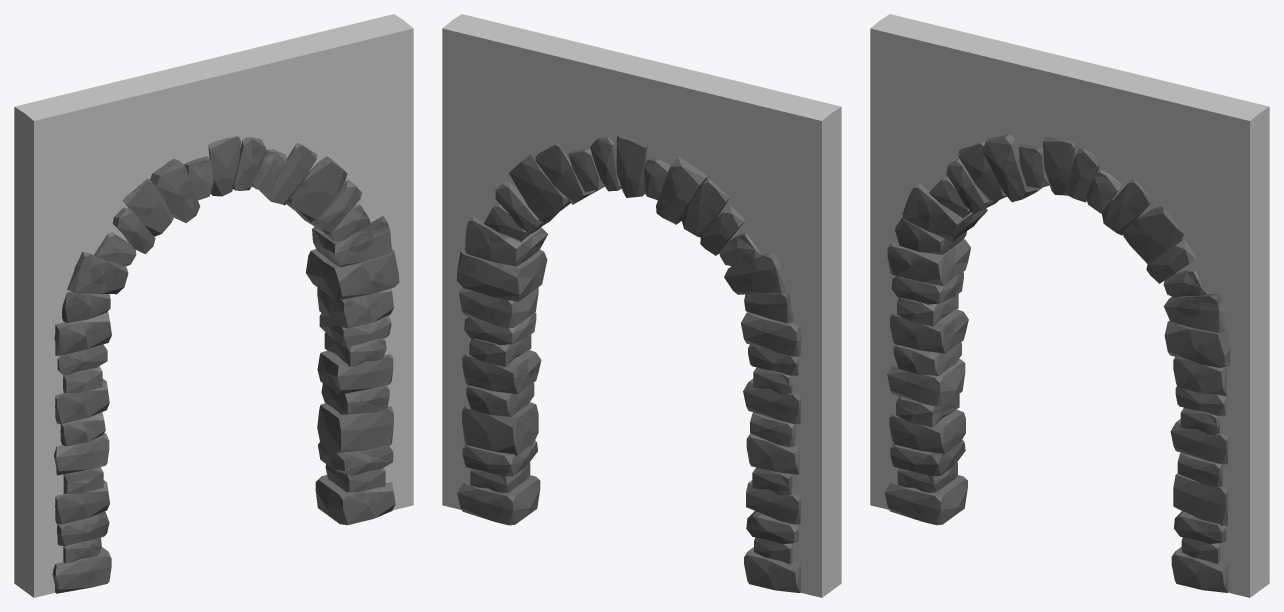
The model's file is SM_Bld_Wall_L_Arch_01.fbx.
The picture shows the model from 3 angles, left to right: view 1: azimuth 30°, elevation 25°; view 2: azimuth 150°, elevation 25°; view 3: azimuth 330°, elevation 25°; orthographic projection.
Visible parts, largest first — view 1: SM_Bld_Wall_L_Arch_01; view 2: SM_Bld_Wall_L_Arch_01; view 3: SM_Bld_Wall_L_Arch_01.
Boxes of the visible parts, <box> form: SM_Bld_Wall_L_Arch_01: <box>14,14,413,597</box>; SM_Bld_Wall_L_Arch_01: <box>442,14,841,597</box>; SM_Bld_Wall_L_Arch_01: <box>870,14,1269,597</box>.
Bounding box in the file's own units: 500 × 601 × 77.86.
